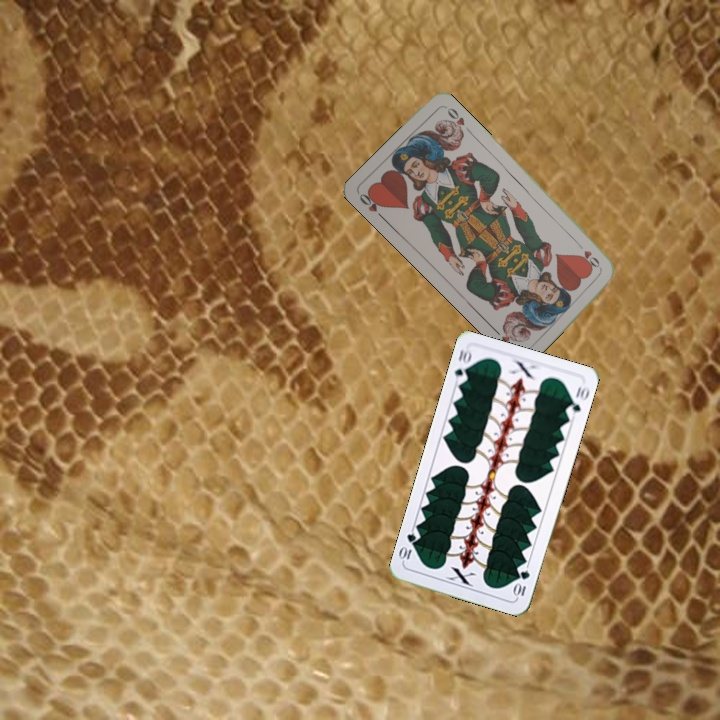G10: (450, 345, 474, 387), (510, 566, 532, 600)
HO: (355, 187, 387, 222), (573, 238, 604, 271)
